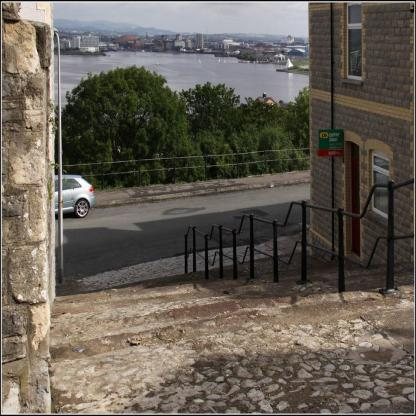Car: (56, 176, 96, 219)
